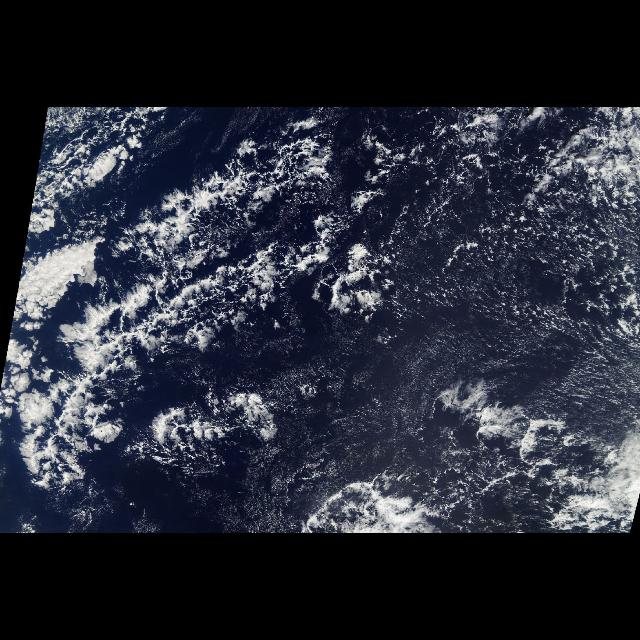Fish: (1, 112, 340, 492)
Gravel: (112, 108, 640, 336), (370, 420, 588, 516)
Sugar: (278, 318, 640, 512)
